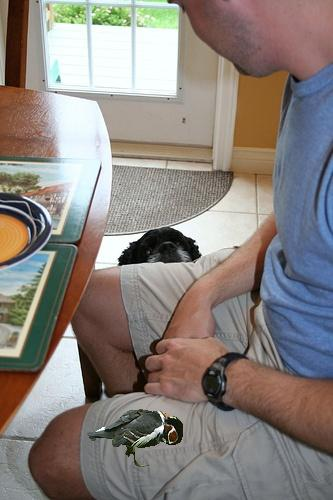tampered: (88, 410, 183, 467)
